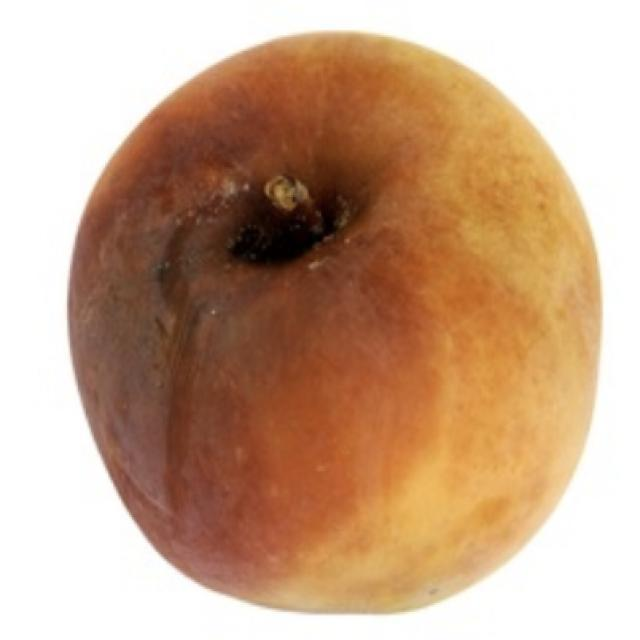Rotten: (65, 27, 608, 613)
